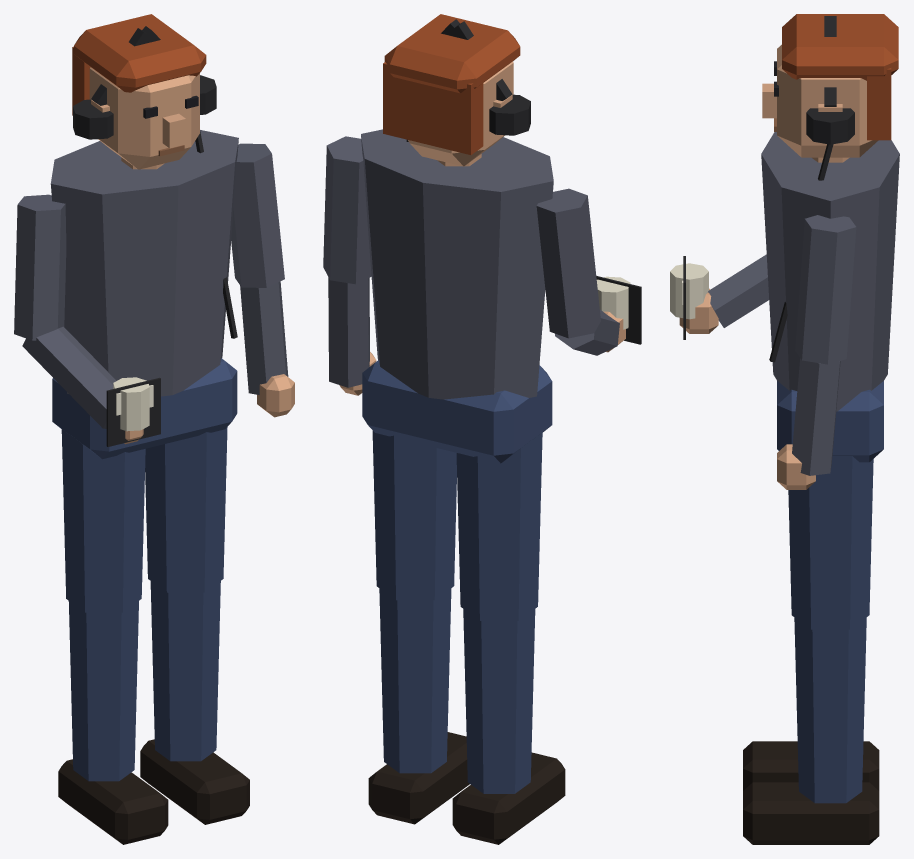
Rendered from person.noc-a.glb.
3 renders of one model, left to right at view 1: azimuth 30°, elevation 25°; view 2: azimuth 150°, elevation 25°; view 3: azimuth 270°, elevation 25°, orthographic. The views are drawn at different scales.
Visible parts, largest first — view 1: torso, thigh-1, thigh1, shin1, shin-1, hips, upper-1, hair, upper1, head, shoe-1, shoe1 (+10 smaller); view 2: torso, thigh-1, thigh1, shin1, shin-1, hips, upper-1, hair, hair-back, upper1, shoe-1, shoe1 (+6 smaller); view 3: torso, thigh1, shin1, upper1, shoe1, hair, head, fore1, hips, shoe-1, fore-1, hair-back (+7 smaller).
Part boxes in pixels (x1=…): torso: x1=50, y1=130, x2=238, y2=396; thigh-1: x1=61, y1=429, x2=145, y2=612; thigh1: x1=145, y1=427, x2=227, y2=592; shin1: x1=150, y1=581, x2=220, y2=761; shin-1: x1=68, y1=601, x2=138, y2=781; hips: x1=52, y1=358, x2=237, y2=459; upper-1: x1=14, y1=194, x2=66, y2=340; hair: x1=74, y1=14, x2=206, y2=92; upper1: x1=231, y1=143, x2=284, y2=287; head: x1=89, y1=67, x2=199, y2=169; shoe-1: x1=58, y1=759, x2=168, y2=844; shoe1: x1=140, y1=739, x2=249, y2=824; torso: x1=361, y1=129, x2=553, y2=399; thigh-1: x1=456, y1=432, x2=542, y2=620; thigh1: x1=372, y1=430, x2=456, y2=600; shin1: x1=379, y1=588, x2=451, y2=773; shin-1: x1=463, y1=609, x2=535, y2=793; hips: x1=362, y1=360, x2=552, y2=463; upper-1: x1=536, y1=188, x2=600, y2=338; hair: x1=384, y1=14, x2=520, y2=93; hair-back: x1=383, y1=62, x2=483, y2=154; upper1: x1=323, y1=136, x2=371, y2=284; shoe-1: x1=452, y1=752, x2=565, y2=844; shoe1: x1=368, y1=732, x2=469, y2=824; torso: x1=761, y1=132, x2=899, y2=411; thigh1: x1=788, y1=456, x2=873, y2=629; shin1: x1=794, y1=617, x2=866, y2=803; upper1: x1=795, y1=215, x2=856, y2=364; shoe1: x1=743, y1=782, x2=879, y2=844; hair: x1=782, y1=14, x2=898, y2=80; head: x1=777, y1=44, x2=878, y2=157; fore1: x1=792, y1=358, x2=840, y2=475; hips: x1=777, y1=381, x2=883, y2=462; shoe-1: x1=743, y1=741, x2=879, y2=790; fore-1: x1=708, y1=254, x2=769, y2=327; hair-back: x1=867, y1=68, x2=891, y2=140.
Bounding box in the file's own units: 0.6504 × 1.81 × 0.4726.
